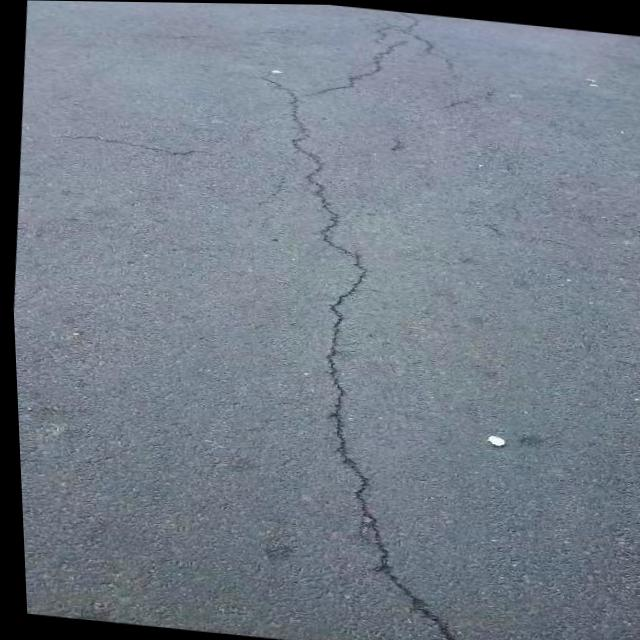Crack: (185, 2, 537, 640)
